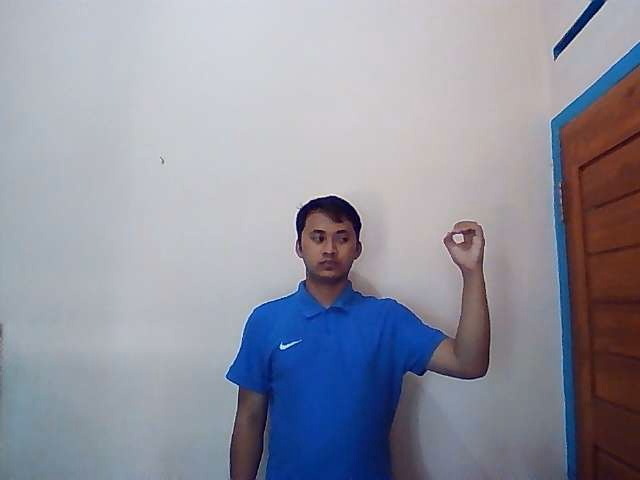O: (441, 219, 490, 272)
